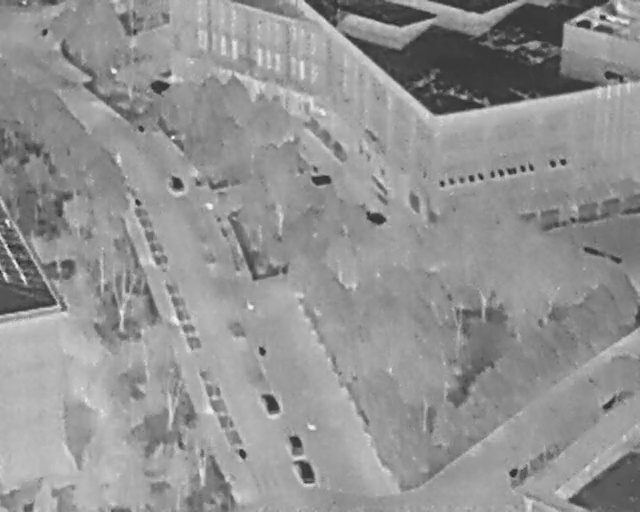Car: (291, 456, 316, 487), (260, 389, 280, 416), (286, 433, 304, 457), (168, 173, 185, 194)
